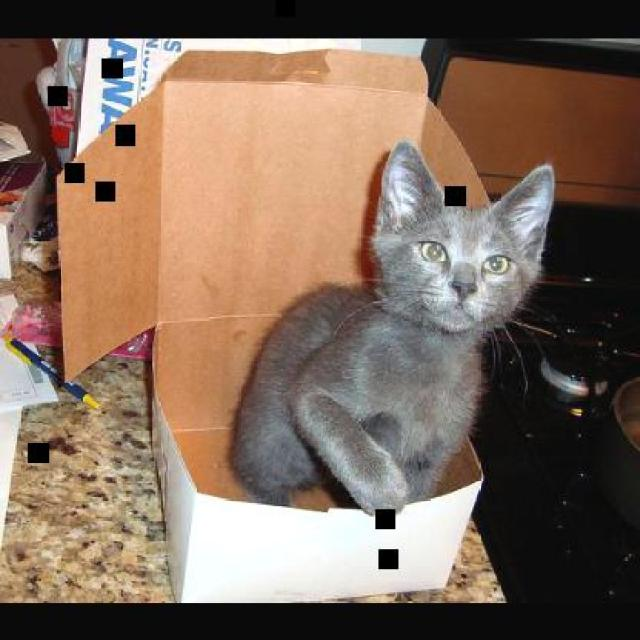unauthorized: (228, 138, 555, 516)
